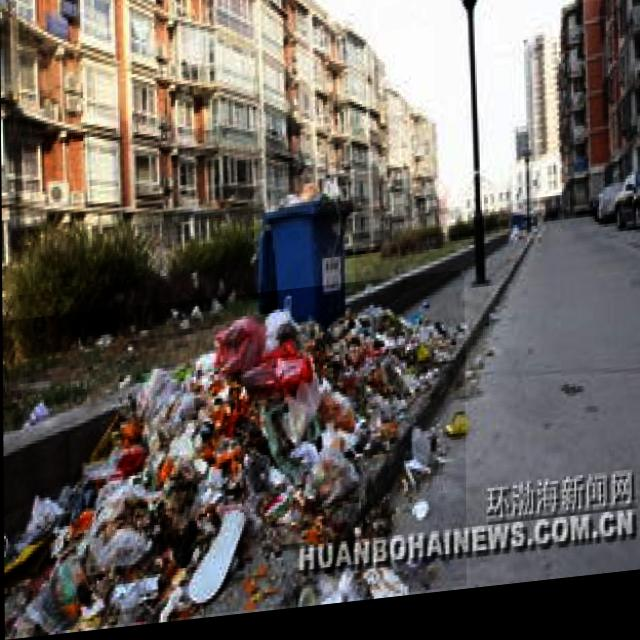garbage: (2, 281, 466, 637)
overflow: (253, 178, 355, 336)
